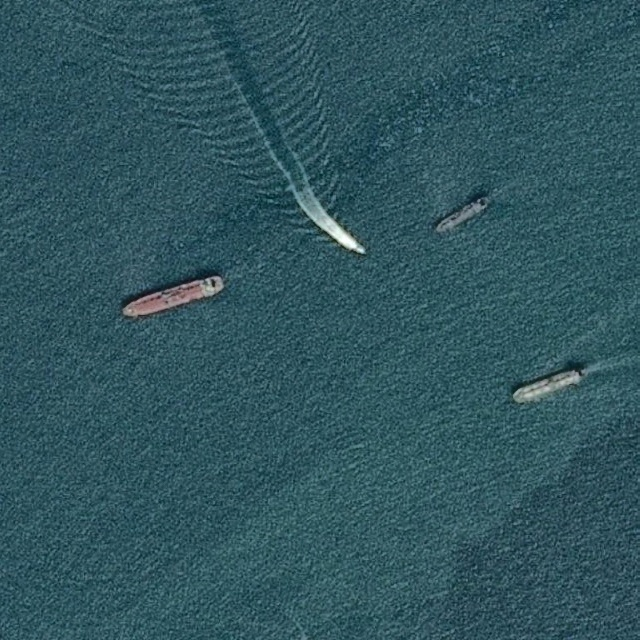wake: (200, 78, 388, 280)
